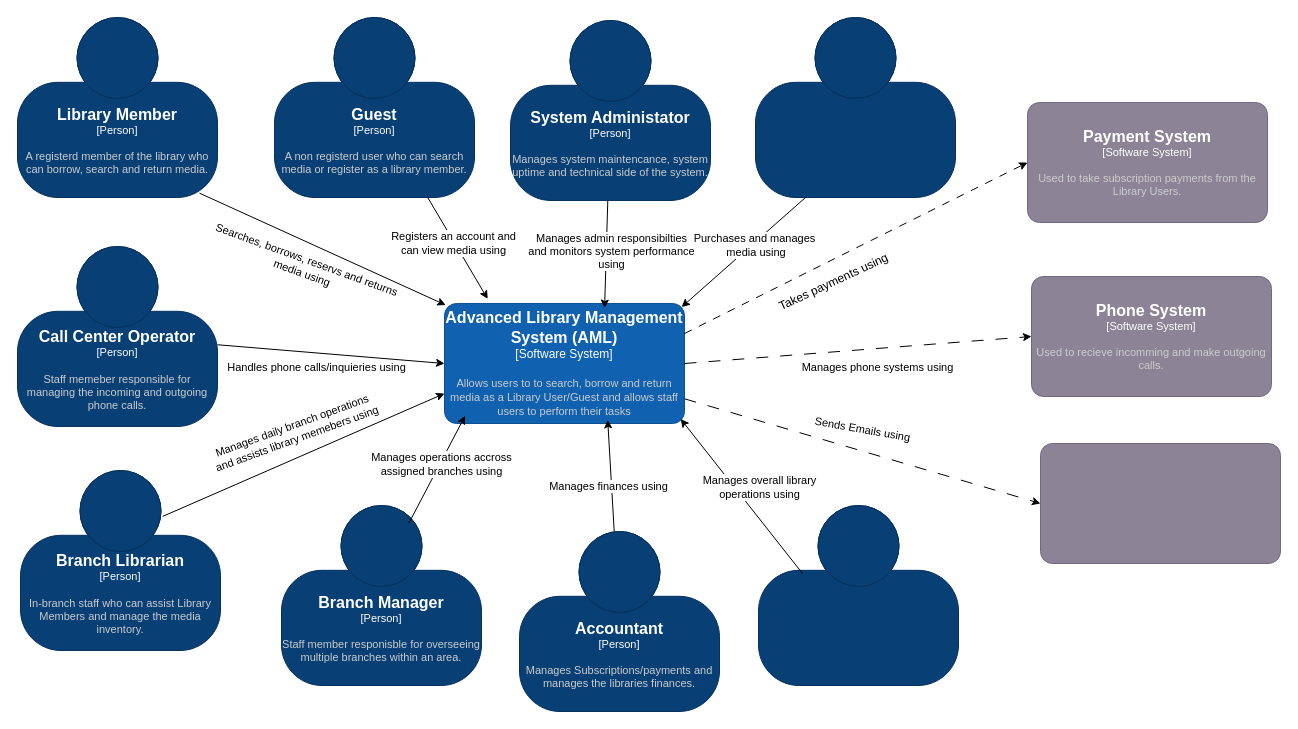
Some shapes in this 1298 by 729 pixel diagram are drawn without their labels. Here are the shapes that lost their labels. From the top down, the centre of each, then its label:
At pixel 855 107: "Purchase Manager [Person] Responsible for the purchase and procurement of media".
At pixel 1160 503: "Email System [Software System] Used to send out emails.".
At pixel 858 595: "AML Administrator [Person] Manages the overall system between every branch.".
